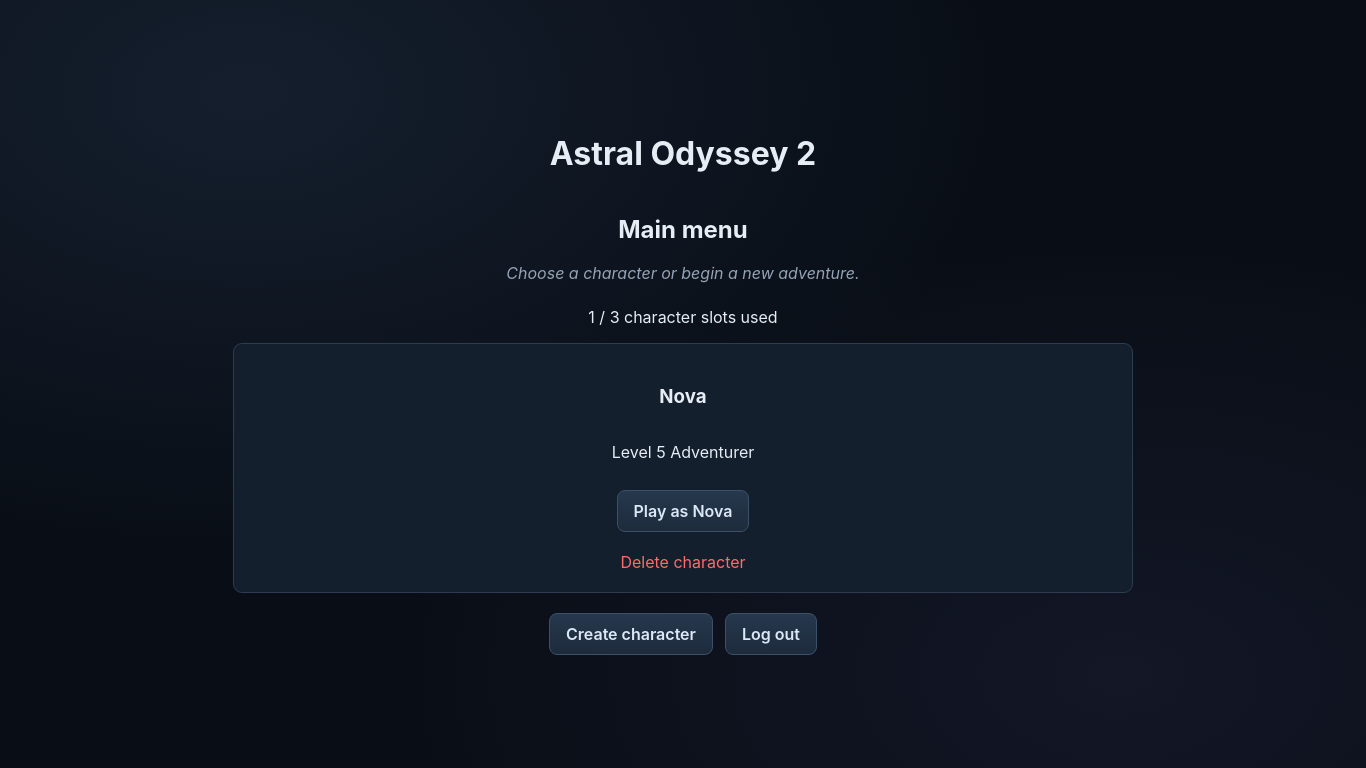
Test: failed deletion remains in the dialog and displays the error
Click the button with aria-label "Delete Nova" at (683, 552), box [620,532,746,572]
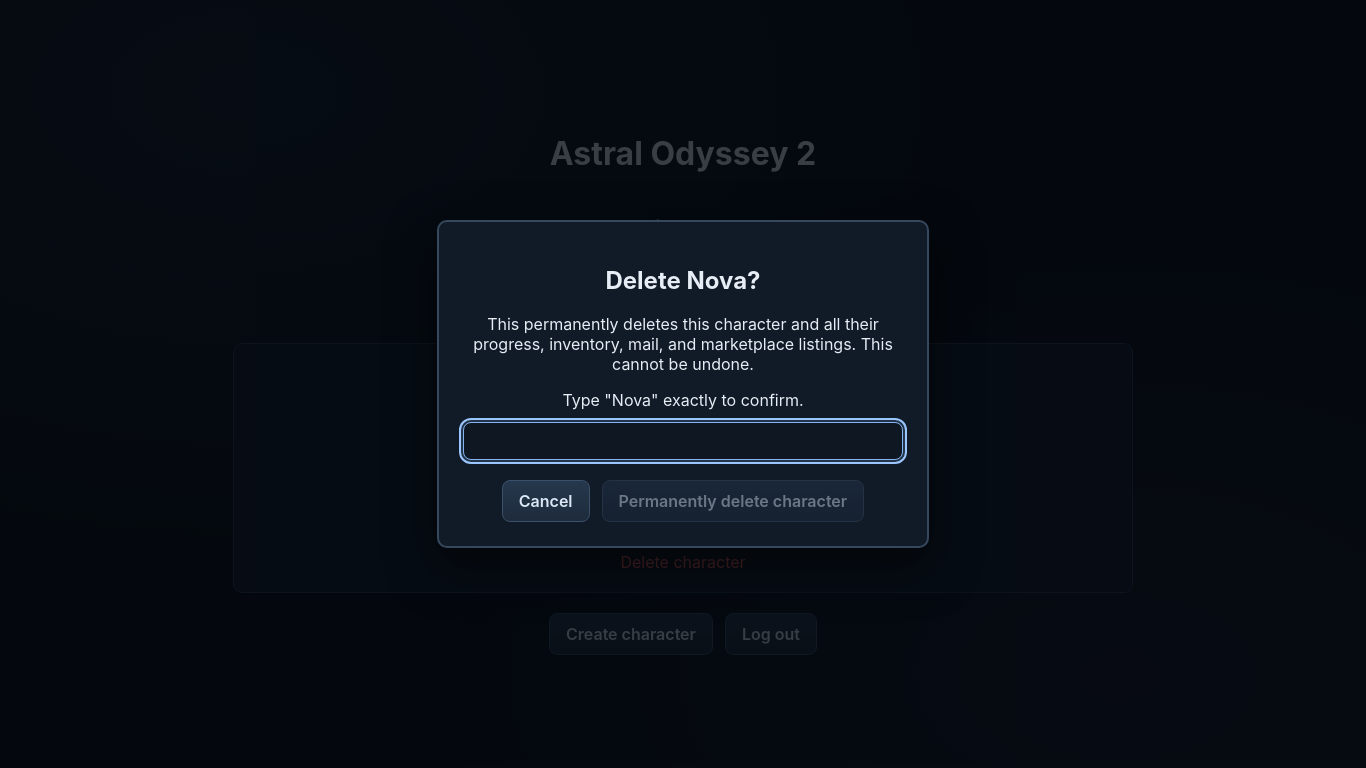
Type "Nova" into the field at (683, 441), box [463,422,903,460]
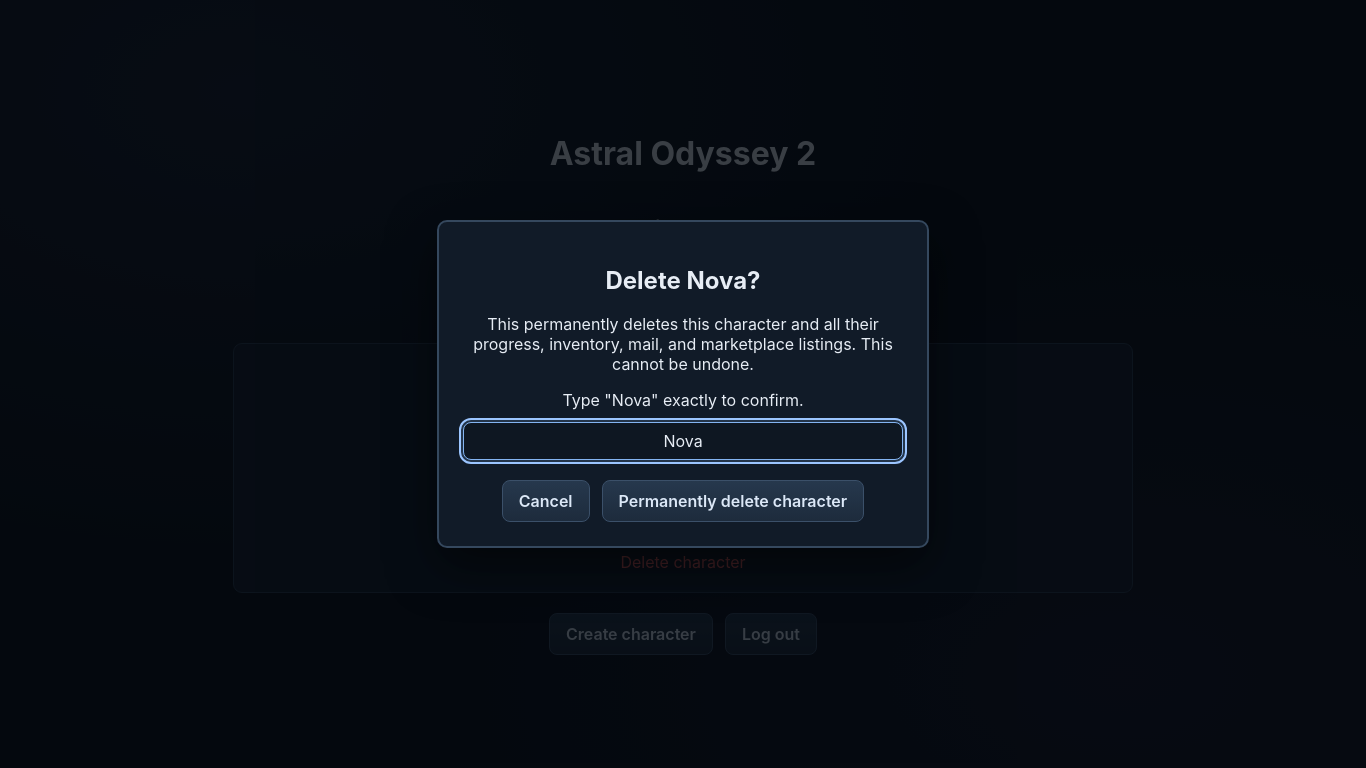
Click the button "Permanently delete character" at (733, 501), box [602,480,864,522]
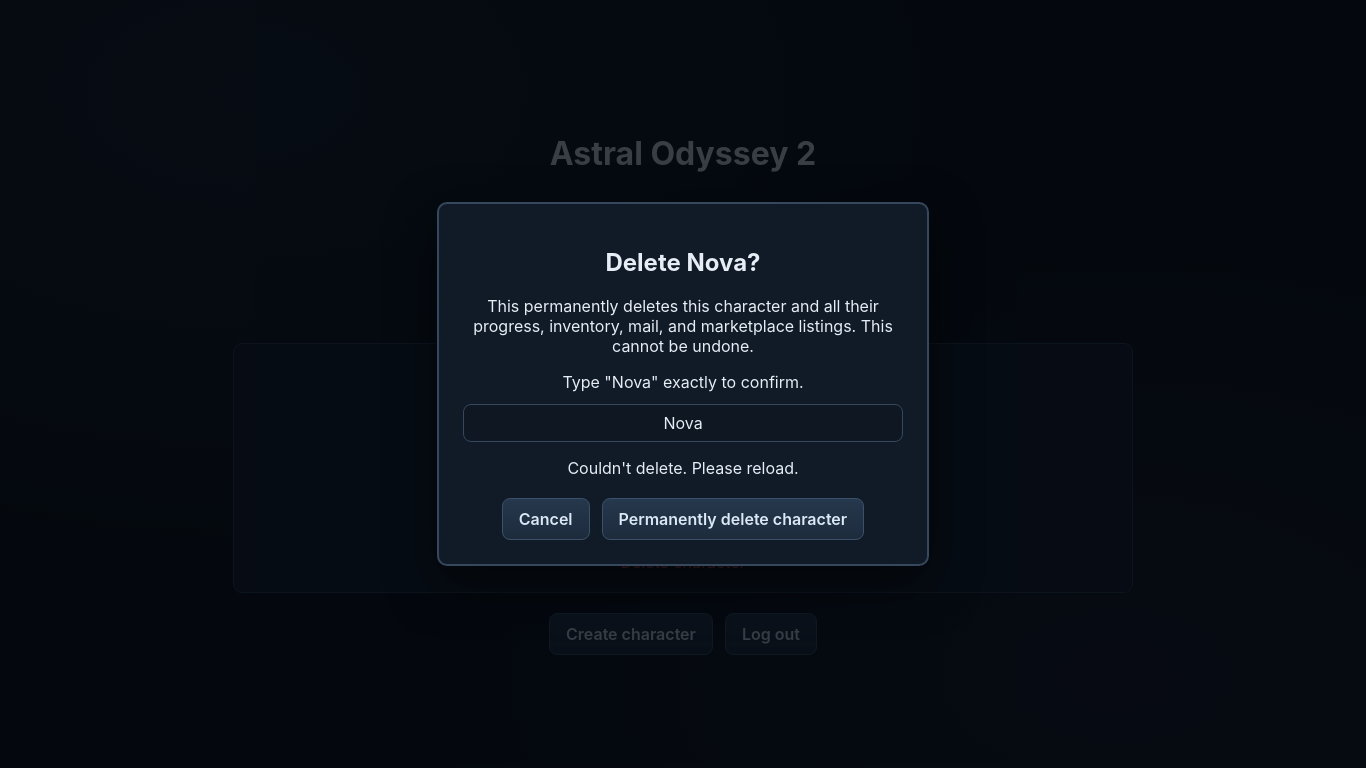
Result: the button "Cancel" is enabled at [502,498,590,540]
Result: the message reads "Couldn't delete. Please reload." at [567,458,799,478]
